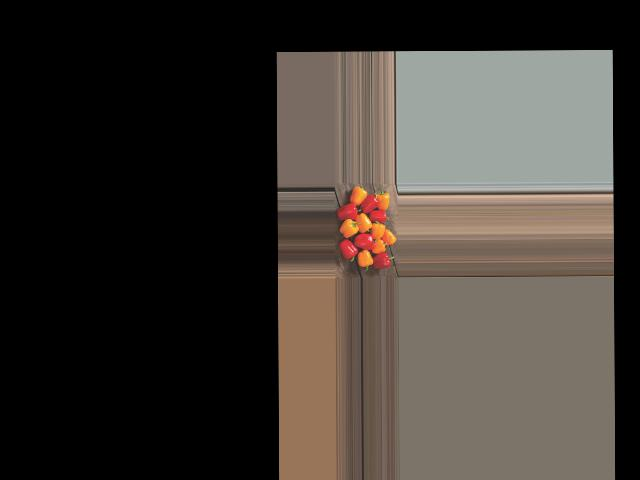bell_pepper: (346, 185, 367, 210)
